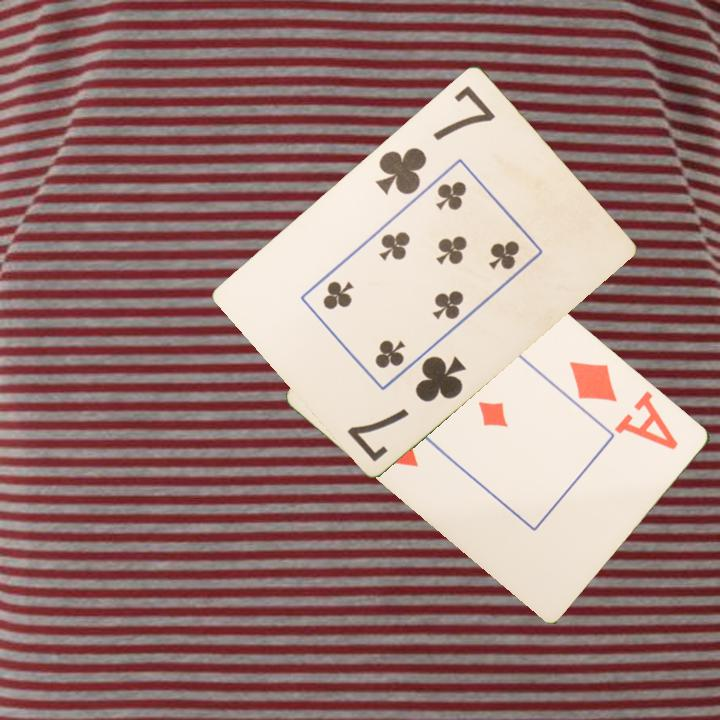7c: (372, 81, 498, 198), (343, 351, 469, 465)
Ad: (566, 357, 682, 453)
